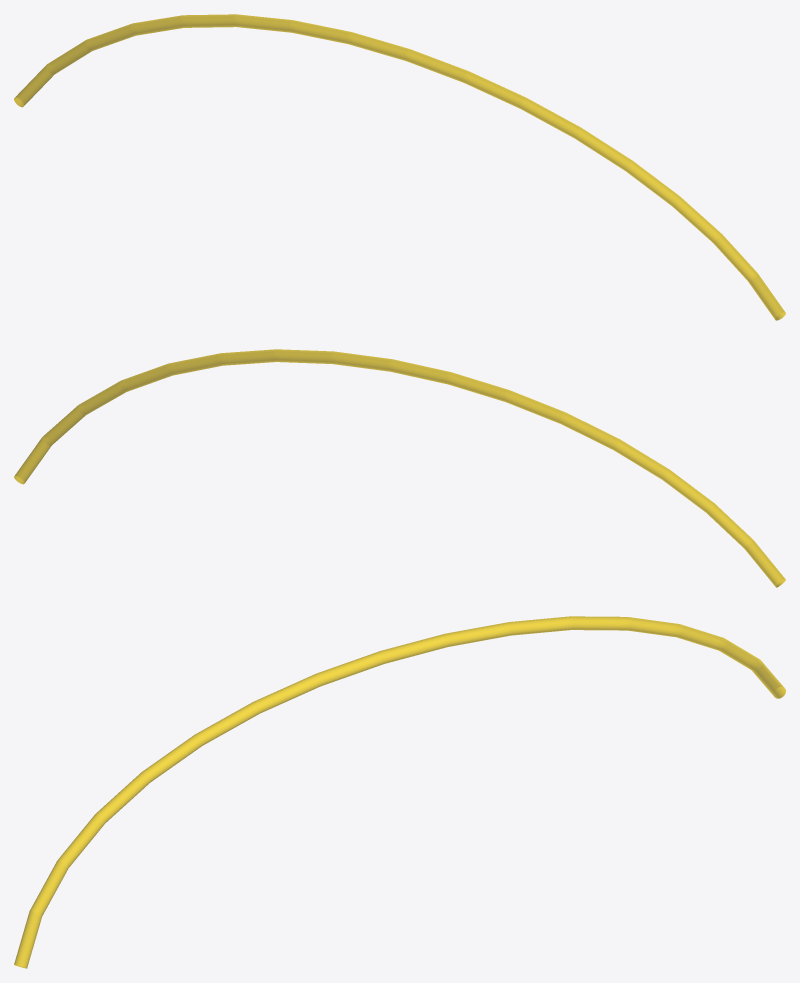
File: Event_75125125_track_46.fbx
The picture shows the model from 3 angles, top to bottom: view 1: azimuth 30°, elevation 25°; view 2: azimuth 210°, elevation 25°; view 3: azimuth 270°, elevation 25°; orthographic projection. The views are drawn at different scales.
Parts seen in each view (by area): view 1: Model; view 2: Model; view 3: Model.
Boxes of the visible parts, bbox=[...] form: Model: bbox=[14, 14, 785, 320]; Model: bbox=[14, 349, 785, 587]; Model: bbox=[14, 616, 785, 968].
Bounding box in the file's own units: 1.52 × 0.6888 × 2.25.
